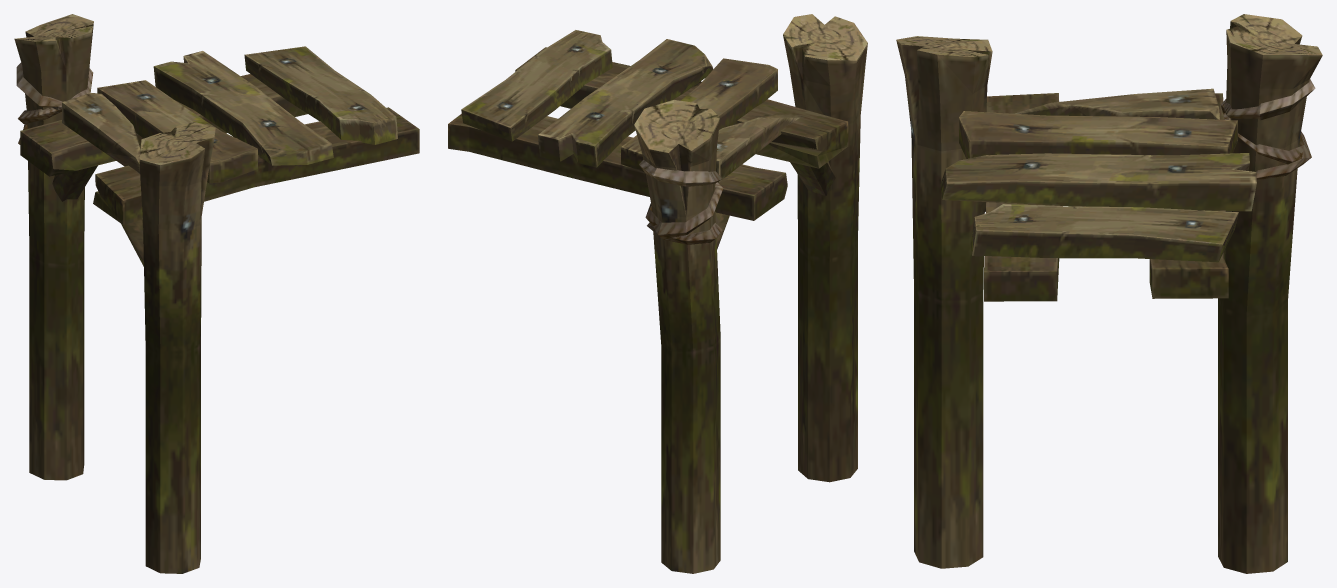
File: dock_03.fbx
The picture shows the model from 3 angles, left to right: view 1: azimuth 30°, elevation 25°; view 2: azimuth 150°, elevation 25°; view 3: azimuth 270°, elevation 25°; orthographic projection. The views are drawn at different scales.
Visible parts, largest first — view 1: obj2.001; view 2: obj2.001; view 3: obj2.001.
Boxes of the visible parts, x1,y1,x2,y2 form: obj2.001: (14, 14, 419, 573); obj2.001: (448, 14, 867, 573); obj2.001: (896, 14, 1322, 573).
Size of the model in its own units: 4.08 by 5.66 by 4.11.
